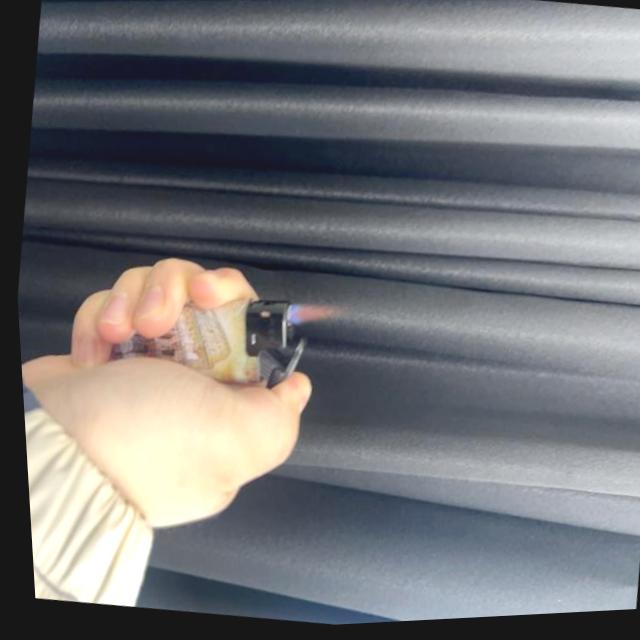Fire: (281, 297, 351, 338)
